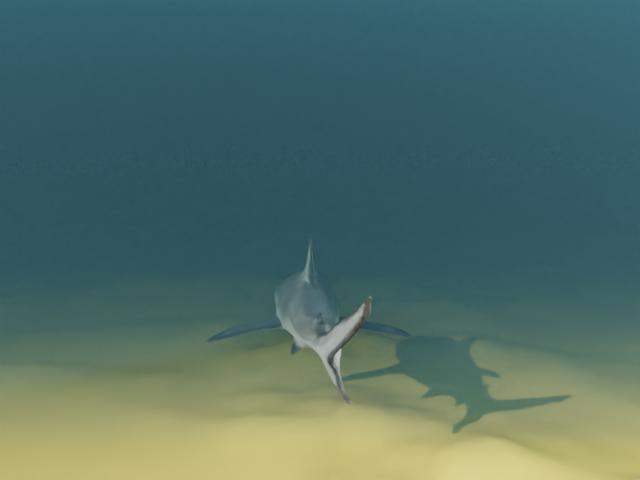Carribean Shark.001: (206, 238, 412, 404)
